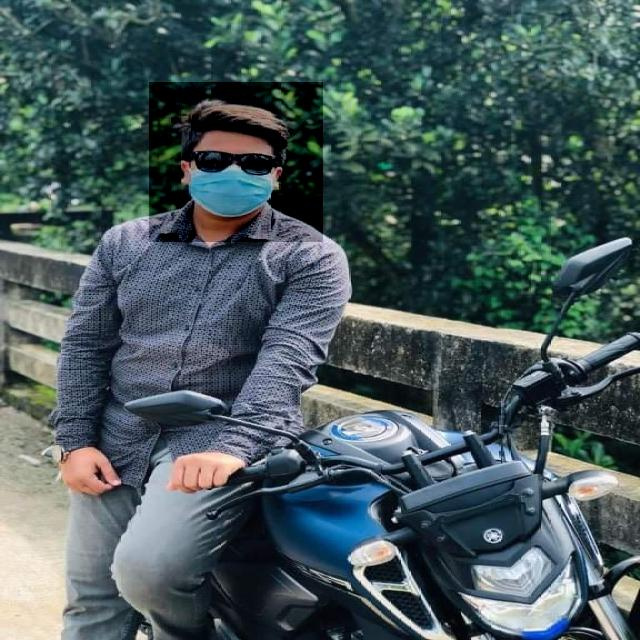No_Helmet: (149, 82, 323, 242)
